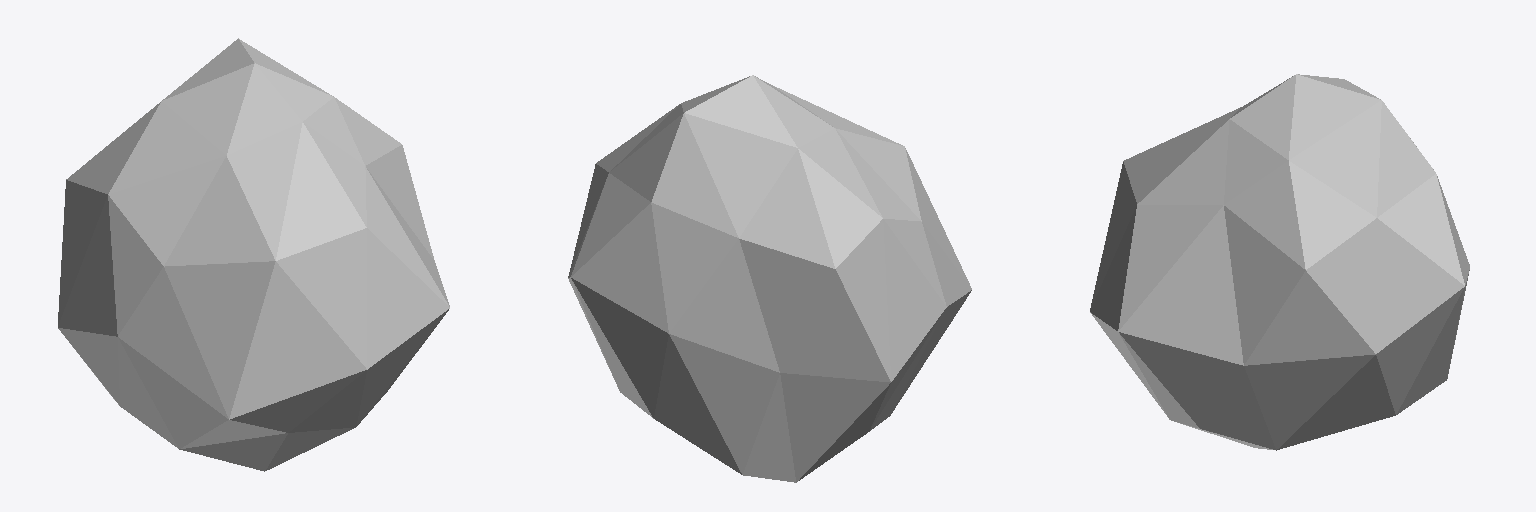
File: treetop.obj
3 views of the same model, side by side, from view 1: azimuth 30°, elevation 25°; view 2: azimuth 150°, elevation 25°; view 3: azimuth 270°, elevation 25° (orthographic).
Size of the model in its own units: 2.05 by 2.26 by 2.11.